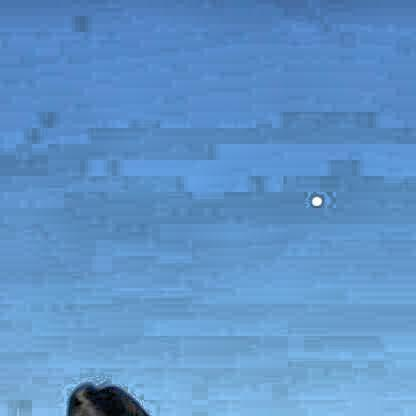golfball: (307, 191, 321, 205)
